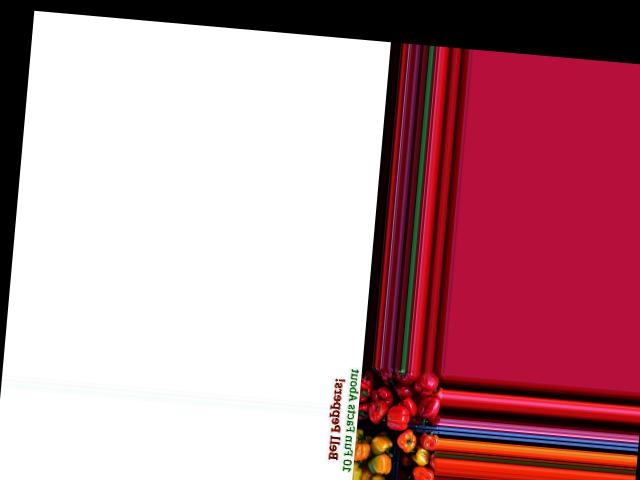bell_pepper: (355, 376, 377, 409)
